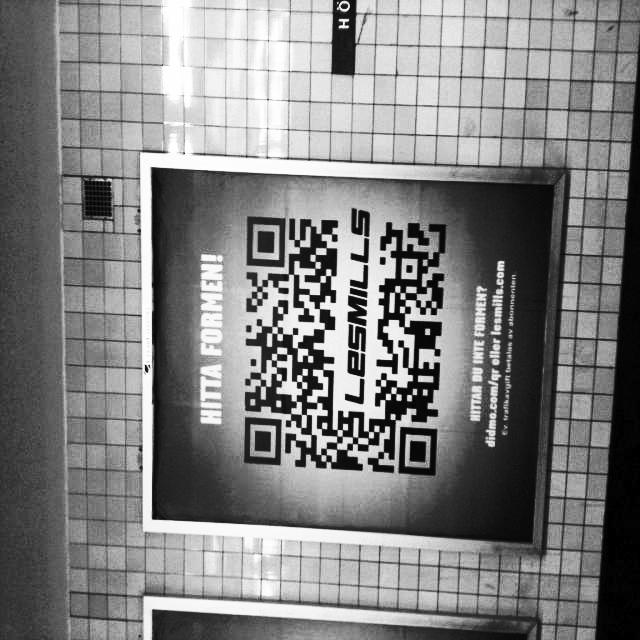qr_code: (245, 217, 446, 475)
